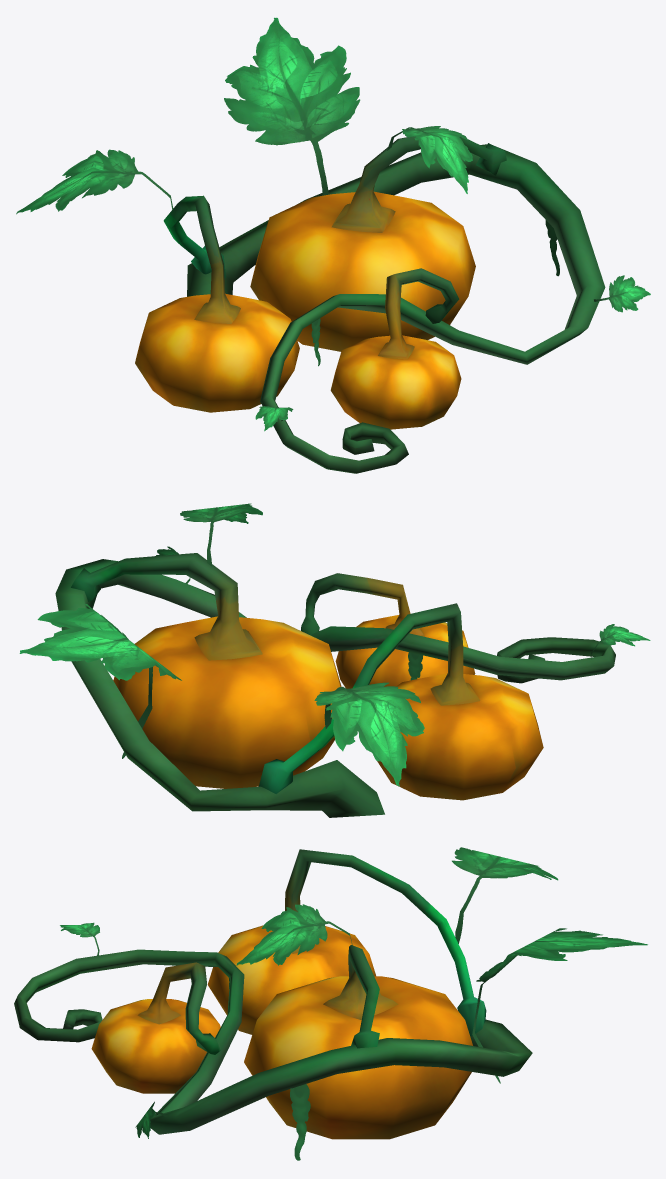
File: pumpkin_stage3.FBX
The picture shows the model from 3 angles, top to bottom: view 1: azimuth 30°, elevation 25°; view 2: azimuth 150°, elevation 25°; view 3: azimuth 270°, elevation 25°; orthographic projection. The views are drawn at different scales.
Visible parts, largest first — view 1: pumpkin_stage3; view 2: pumpkin_stage3; view 3: pumpkin_stage3.
Part boxes in pixels (x1,y1,x2,y2): pumpkin_stage3: (16, 17, 650, 473); pumpkin_stage3: (19, 503, 650, 817); pumpkin_stage3: (14, 847, 647, 1160).
Size of the model in its own units: 6.31 by 2.93 by 7.84.
1 material, 1 textured.
